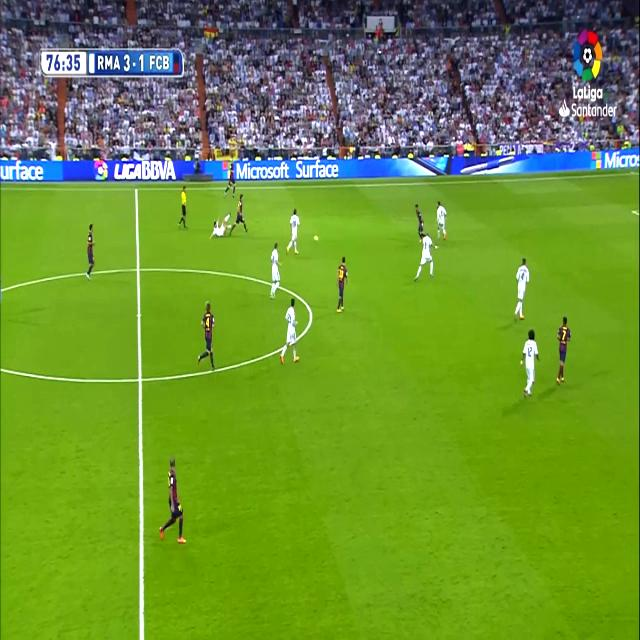bigarea_top_inner: (629, 202, 638, 220)
halfcircle_bottom: (134, 362, 146, 394)
halfcircle_top: (132, 256, 144, 282)
midline_top_intersection: (132, 182, 141, 198)
